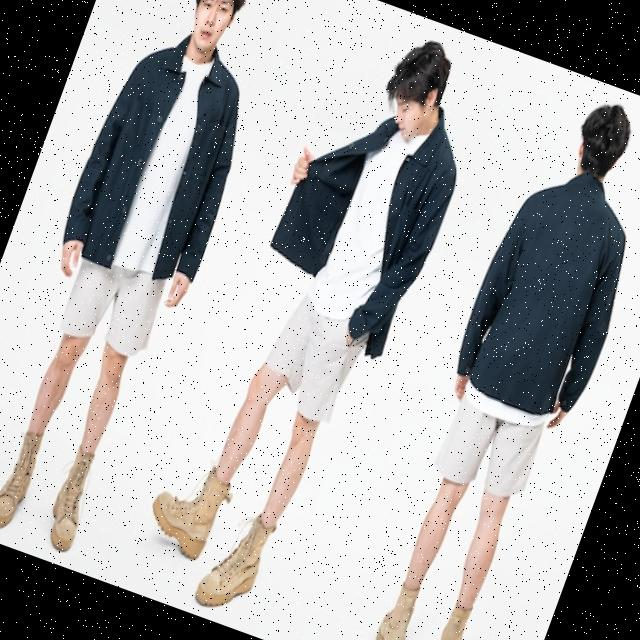Person: (127, 3, 500, 638), (0, 0, 300, 566), (345, 83, 640, 640)
